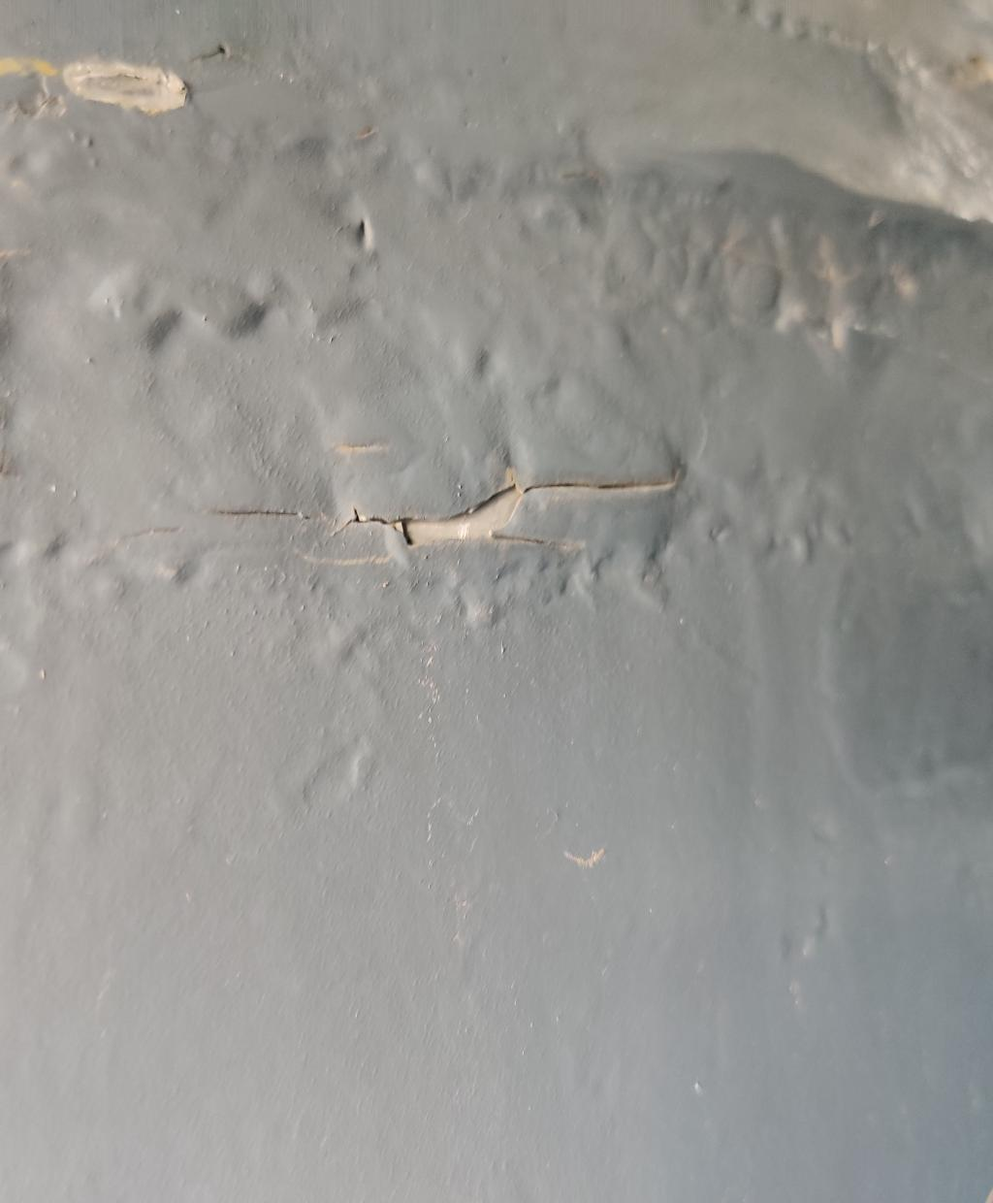crack: (321, 417, 702, 598)
